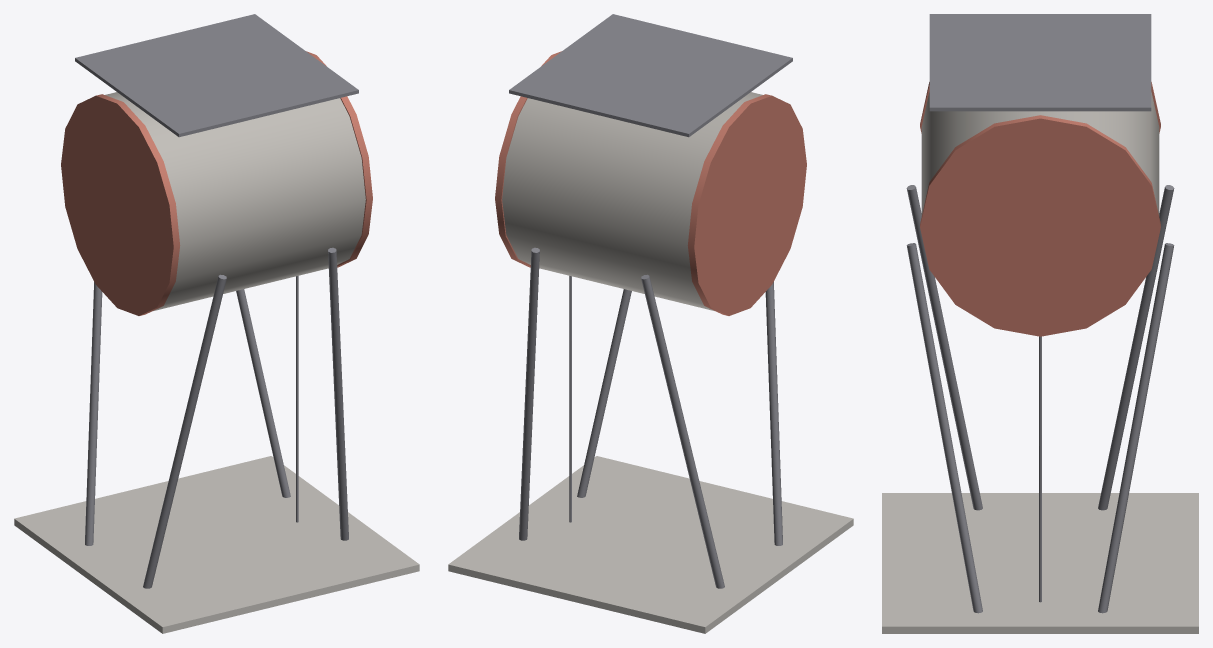
Rendered from water_tower_small.glb.
3 views of the same model, side by side, from view 1: azimuth 30°, elevation 25°; view 2: azimuth 150°, elevation 25°; view 3: azimuth 270°, elevation 25° (orthographic). The views are drawn at different scales.
Visible parts, largest first — view 1: base, tank, platform, cap_l, leg_fl, leg_fr, leg_bl, leg_br, cap_r, ladder; view 2: base, tank, platform, cap_l, leg_bl, leg_br, leg_fl, leg_fr, cap_r, ladder; view 3: base, cap_r, platform, tank, leg_fr, leg_br, leg_fl, leg_bl, ladder.
Boxes of the visible parts, bbox=[...] form: base: bbox=[14, 456, 419, 633]; tank: bbox=[105, 92, 365, 310]; platform: bbox=[75, 14, 358, 137]; cap_l: bbox=[61, 94, 180, 315]; leg_fl: bbox=[143, 274, 226, 588]; leg_fr: bbox=[328, 247, 348, 540]; leg_bl: bbox=[85, 282, 102, 545]; leg_br: bbox=[236, 289, 290, 497]; cap_r: bbox=[306, 51, 372, 267]; ladder: bbox=[296, 276, 298, 522]; base: bbox=[448, 456, 853, 633]; tank: bbox=[502, 92, 762, 310]; platform: bbox=[509, 14, 792, 137]; cap_l: bbox=[687, 94, 806, 315]; leg_bl: bbox=[641, 274, 724, 588]; leg_br: bbox=[519, 247, 539, 540]; leg_fl: bbox=[765, 282, 782, 545]; leg_fr: bbox=[577, 289, 631, 497]; cap_r: bbox=[495, 51, 561, 267]; ladder: bbox=[569, 276, 571, 522]; base: bbox=[882, 493, 1198, 633]; cap_r: bbox=[920, 115, 1160, 336]; platform: bbox=[929, 14, 1151, 111]; tank: bbox=[921, 92, 1159, 215]; leg_fr: bbox=[906, 243, 982, 613]; leg_br: bbox=[1098, 243, 1174, 613]; leg_fl: bbox=[906, 185, 982, 510]; leg_bl: bbox=[1098, 185, 1174, 510]; ladder: bbox=[1039, 336, 1041, 602].
Size of the model in its own units: 4 by 7.1 by 4.
